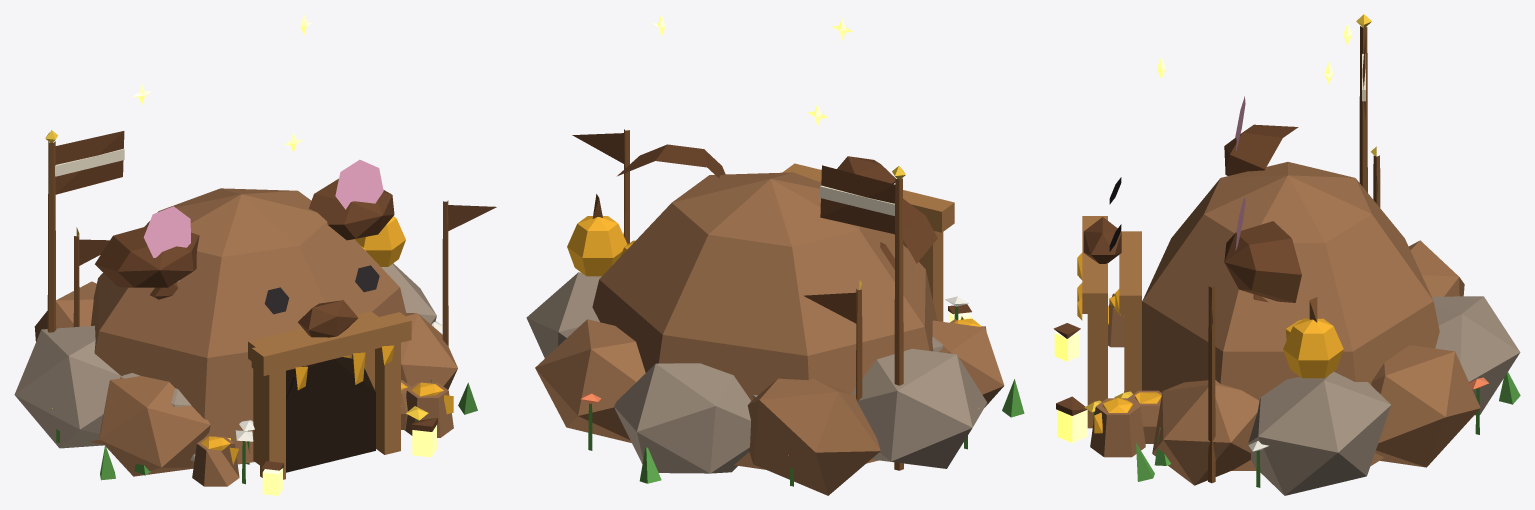
Rendered from bear-honey-cave.glb.
3 renders of one model, left to right at view 1: azimuth 30°, elevation 25°; view 2: azimuth 150°, elevation 25°; view 3: azimuth 270°, elevation 25°, orthographic. The views are drawn at different scales.
Parts seen in each view (by area): view 1: lv3, lv2; view 2: lv3, lv2; view 3: lv3, lv2.
Part boxes in pixels (box(x1,y1,x2,y2)): lv3: box(14, 14, 496, 495); lv2: box(73, 227, 432, 475); lv3: box(526, 14, 1024, 495); lv2: box(620, 234, 989, 402); lv3: box(1053, 14, 1520, 495); lv2: box(1114, 146, 1380, 465).
Size of the model in its own units: 2.08 by 1.72 by 1.84.
